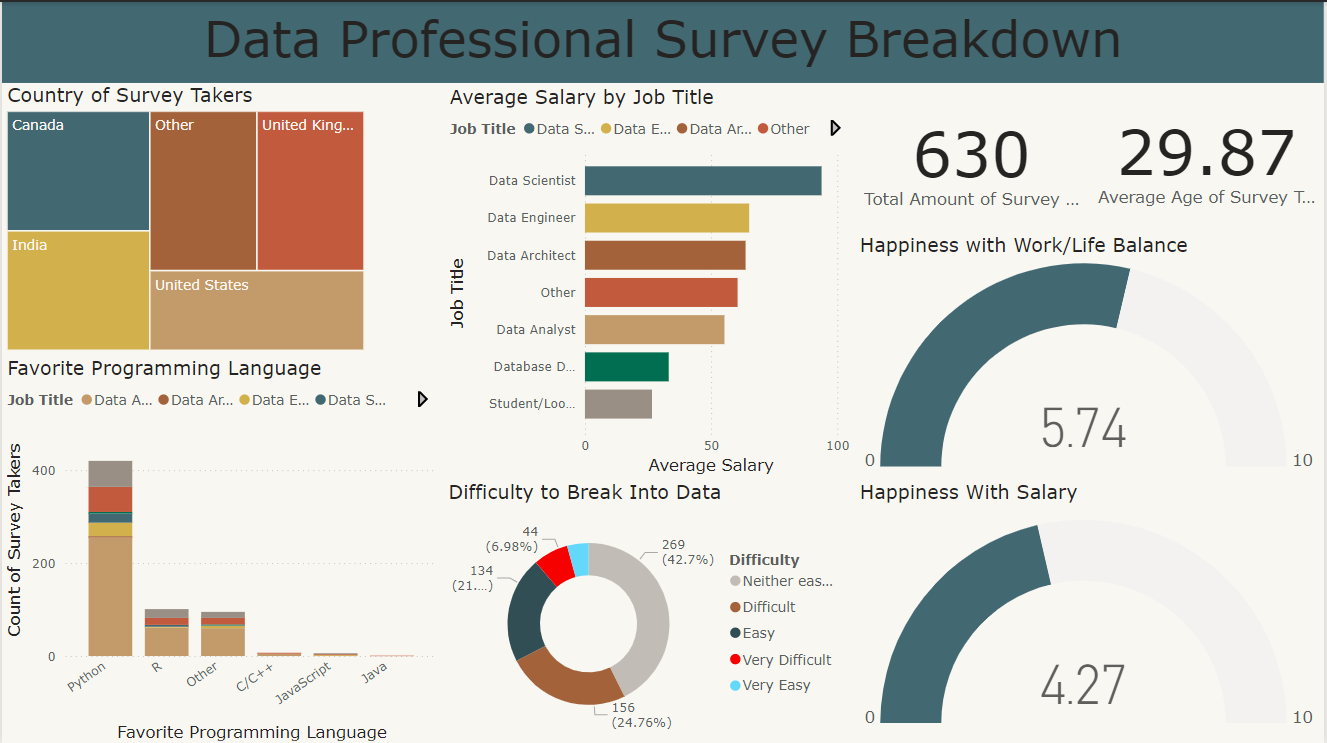

The page's visual inventory and layout, read from the dashboard file:
{"tool":"powerbi","page":{"name":"Page 1","canvas":[1280,720],"ordinal":0},"visuals":[{"type":"textbox","box":[0,0,1280.3,78.2],"z":0},{"type":"card","fields":{"Values":["CountNonNull(Data Professional Survey.Unique ID)"]},"box":[825.8,79.8,227,146],"z":1000},{"type":"card","fields":{"Values":["Avg(Data Professional Survey.Q10 - Current Age)"]},"box":[1052.8,78.5,227,146],"z":2000},{"type":"barChart","title":"Average Salary by Job Title","fields":{"Category":["Data Professional Survey.Q1 - Which Title Best Fits your Current Role?.1"],"Y":["Avg(Data Professional Survey.Average Salary)"],"Series":["Data Professional Survey.Q1 - Which Title Best Fits your Current Role?.1"]},"box":[428.2,79.8,397.5,382.8],"z":3000},{"type":"columnChart","title":"Favorite Programming Language","fields":{"Category":["Data Professional Survey.Q5 - Favorite Programming Language.1"],"Y":["CountNonNull(Data Professional Survey.Unique ID)"],"Series":["Data Professional Survey.Q1 - Which Title Best Fits your Current Role?.1"]},"box":[0,342.3,427,377.9],"z":4000},{"type":"treemap","title":"Country of Survey Takers","fields":{"Group":["Data Professional Survey.Q11 - Which Country do you live in?.1"],"Values":["Count(Data Professional Survey.Q11 - Which Country do you live in?.1)"]},"box":[0,78.5,355.8,263.8],"z":5000},{"type":"gauge","title":"Happiness with Work/Life Balance","fields":{"Y":["Avg(Data Professional Survey.Q6 - How Happy are you in your Current Position with the following? (Work/Life Balance))"],"MinValue":["Min(Data Professional Survey.Q6 - How Happy are you in your Current Position with the following? (Work/Life Balance))"],"MaxValue":["Max(Data Professional Survey.Q6 - How Happy are you in your Current Position with the following? (Work/Life Balance))1"]},"box":[825.8,224.5,454,238],"z":6000},{"type":"gauge","title":"Happiness With Salary","fields":{"Y":["Avg(Data Professional Survey.Q6 - How Happy are you in your Current Position with the following? (Salary))"],"MinValue":["Min(Data Professional Survey.Q6 - How Happy are you in your Current Position with the following? (Salary))"],"MaxValue":["Max(Data Professional Survey.Q6 - How Happy are you in your Current Position with the following? (Salary))"]},"box":[825.8,462.6,454,257.7],"z":7000},{"type":"donutChart","title":"Difficulty to Break Into Data","fields":{"Category":["Data Professional Survey.Q7 - How difficult was it for you to break into Data?"],"Y":["CountNonNull(Data Professional Survey.Q7 - How difficult was it for you to break into Data?)"]},"box":[427,462.6,398.8,257.7],"z":8000}]}

Visuals, with their boxes in screenshot pixels (x1, y1, x2, y2), scaled from the page's 1280x720 canvas onto the 1327x743 screenshot:
textbox: [0,0,1326,81]
card - CountNonNull(Data Professional Survey.Unique ID): [856,82,1091,233]
card - Avg(Data Professional Survey.Q10 - Current Age): [1091,81,1326,232]
"Average Salary by Job Title" barChart: [444,82,856,477]
"Favorite Programming Language" columnChart: [0,353,443,742]
"Country of Survey Takers" treemap: [0,81,369,353]
"Happiness with Work/Life Balance" gauge: [856,232,1326,477]
"Happiness With Salary" gauge: [856,477,1326,742]
"Difficulty to Break Into Data" donutChart: [443,477,856,742]
